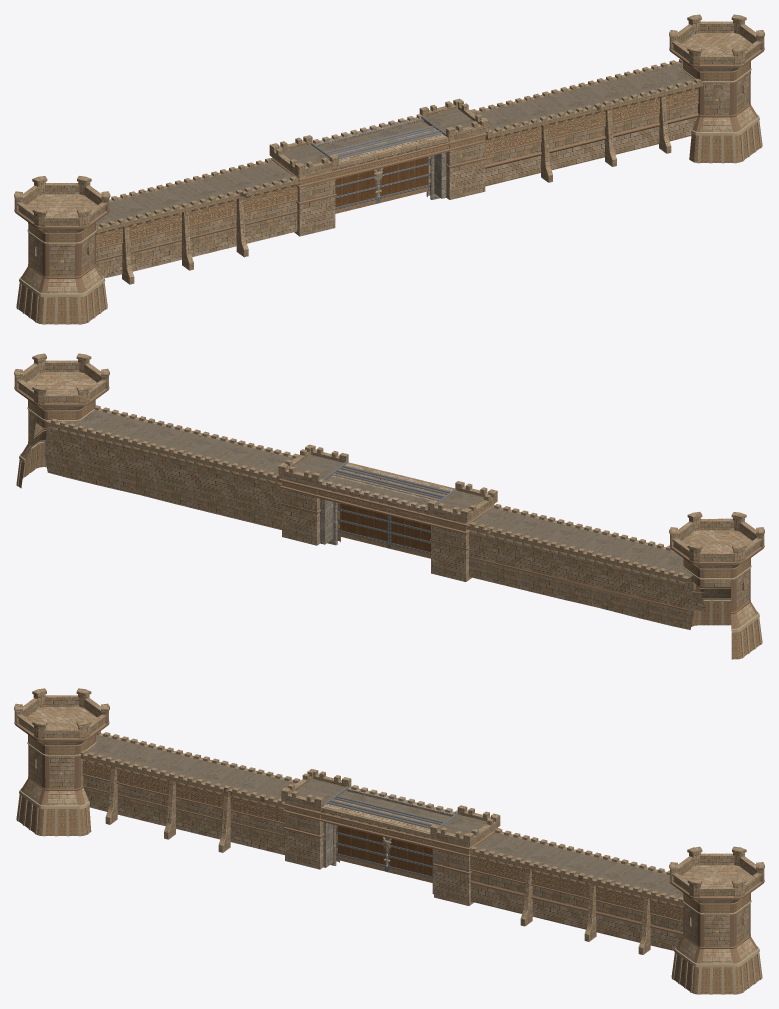
Rendered from wallGate.glb.
The picture shows the model from 3 angles, top to bottom: view 1: azimuth 30°, elevation 25°; view 2: azimuth 150°, elevation 25°; view 3: azimuth 330°, elevation 25°; orthographic projection.
Visible parts, largest first — view 1: WallGate_L2; view 2: WallGate_L2; view 3: WallGate_L2.
Part boxes in pixels (bbox=[...]): WallGate_L2: bbox=[14, 14, 764, 324]; WallGate_L2: bbox=[14, 353, 764, 659]; WallGate_L2: bbox=[14, 688, 764, 994].
Size of the model in its own units: 177 by 26.11 by 20.86.
Materials: 1 (1 with a texture image).
